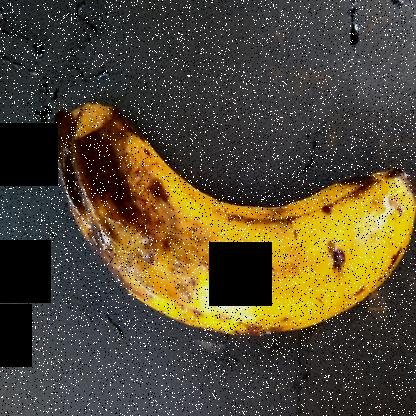ripe: (204, 157, 416, 344)
rotten: (42, 72, 216, 310)
